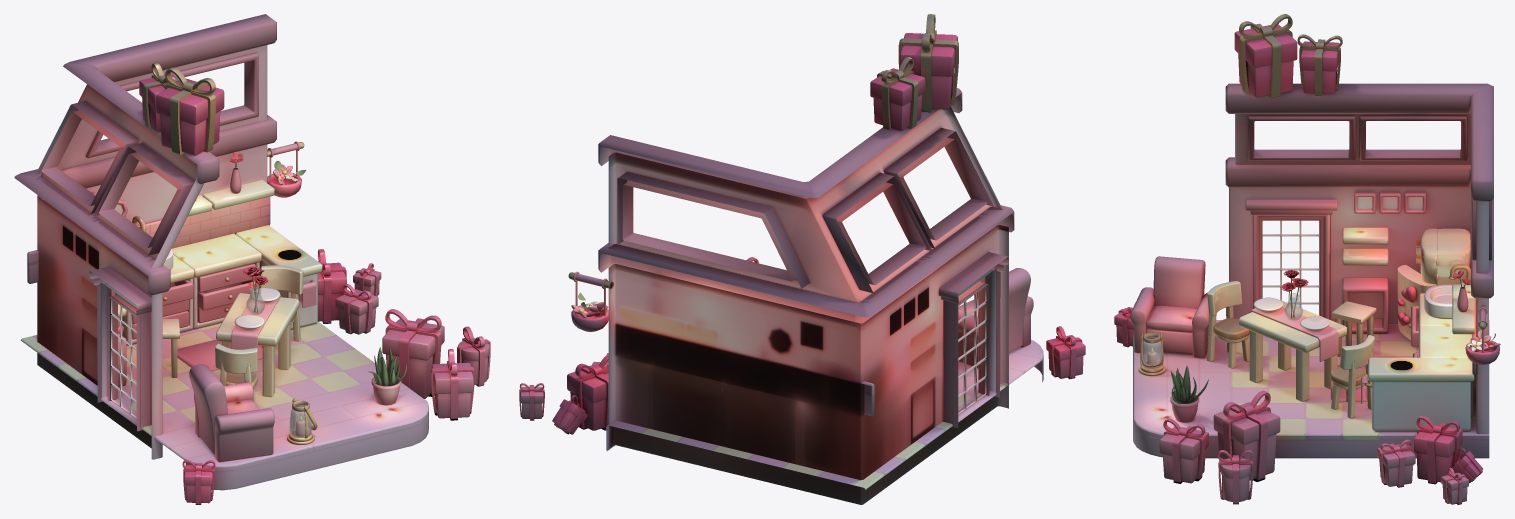
File: Loveroom.fbx
3 views of the same model, side by side, from view 1: azimuth 30°, elevation 25°; view 2: azimuth 150°, elevation 25°; view 3: azimuth 270°, elevation 25° (orthographic). The views are drawn at different scales.
Visible parts, largest first — view 1: Dinner004, Dinner005, Dinner002, Dinner006, Dinner003, Dinner010, Dinner001, Dinner013, Dinner009, Dinner012; view 2: Dinner005, Dinner004, Dinner006, Dinner002, Dinner010; view 3: Dinner004, Dinner005, Dinner006, Dinner002, Dinner003, Dinner001, Dinner010, Dinner007, Dinner011, Dinner009, Dinner013, Dinner012.
Part boxes in pixels (<box>): Dinner004: <box>14,14,276,295</box>; Dinner005: <box>37,141,304,459</box>; Dinner002: <box>20,321,428,490</box>; Dinner006: <box>139,62,490,504</box>; Dinner003: <box>122,215,322,345</box>; Dinner010: <box>189,288,406,462</box>; Dinner001: <box>162,265,303,403</box>; Dinner013: <box>246,287,312,438</box>; Dinner009: <box>230,151,306,312</box>; Dinner012: <box>287,398,317,444</box>; Dinner005: <box>568,225,1008,504</box>; Dinner004: <box>598,88,1014,417</box>; Dinner006: <box>519,14,1085,434</box>; Dinner002: <box>606,339,1043,489</box>; Dinner010: <box>795,268,1033,367</box>; Dinner004: <box>1225,83,1493,374</box>; Dinner005: <box>1229,187,1499,433</box>; Dinner006: <box>1114,14,1482,504</box>; Dinner002: <box>1133,320,1489,458</box>; Dinner003: <box>1361,264,1474,431</box>; Dinner001: <box>1207,281,1376,418</box>; Dinner010: <box>1130,256,1329,422</box>; Dinner007: <box>1397,228,1470,340</box>; Dinner011: <box>1354,192,1470,312</box>; Dinner009: <box>1281,269,1500,351</box>; Dinner013: <box>1141,293,1302,369</box>; Dinner012: <box>1138,332,1165,375</box>.
Size of the model in its own units: 776 by 743 by 735.
